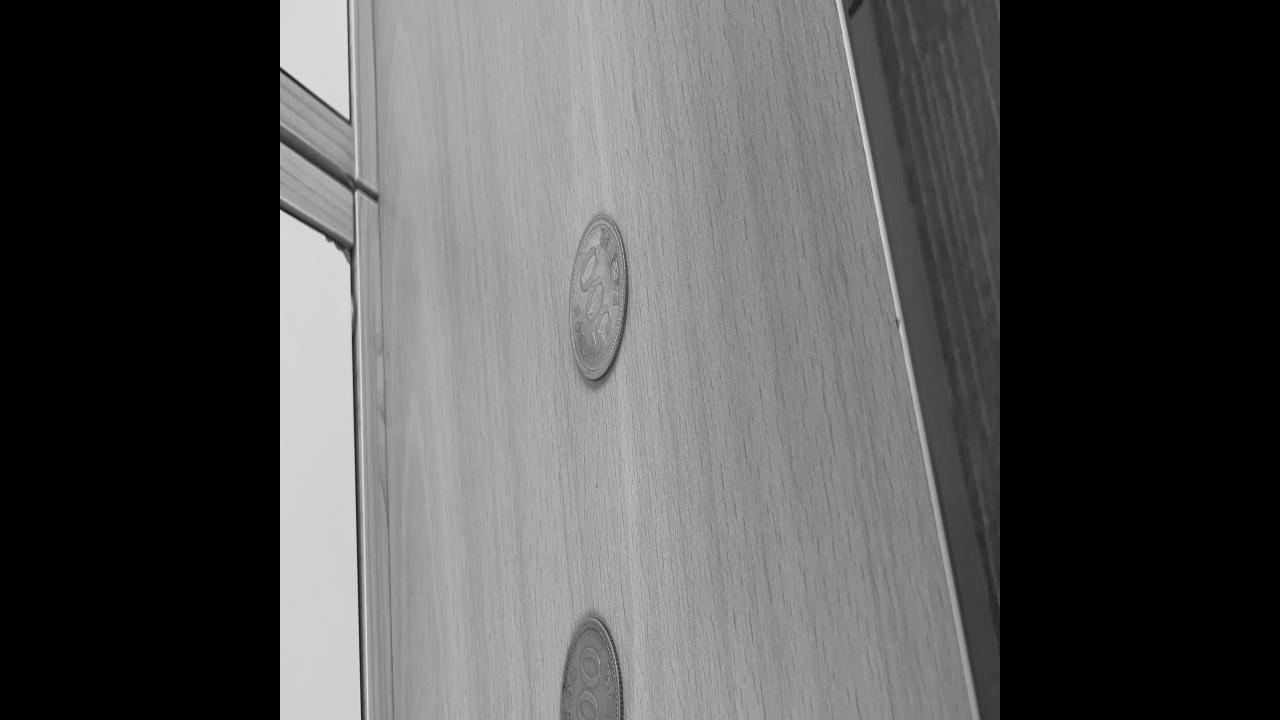coin: (567, 207, 629, 382), (557, 610, 625, 720)
